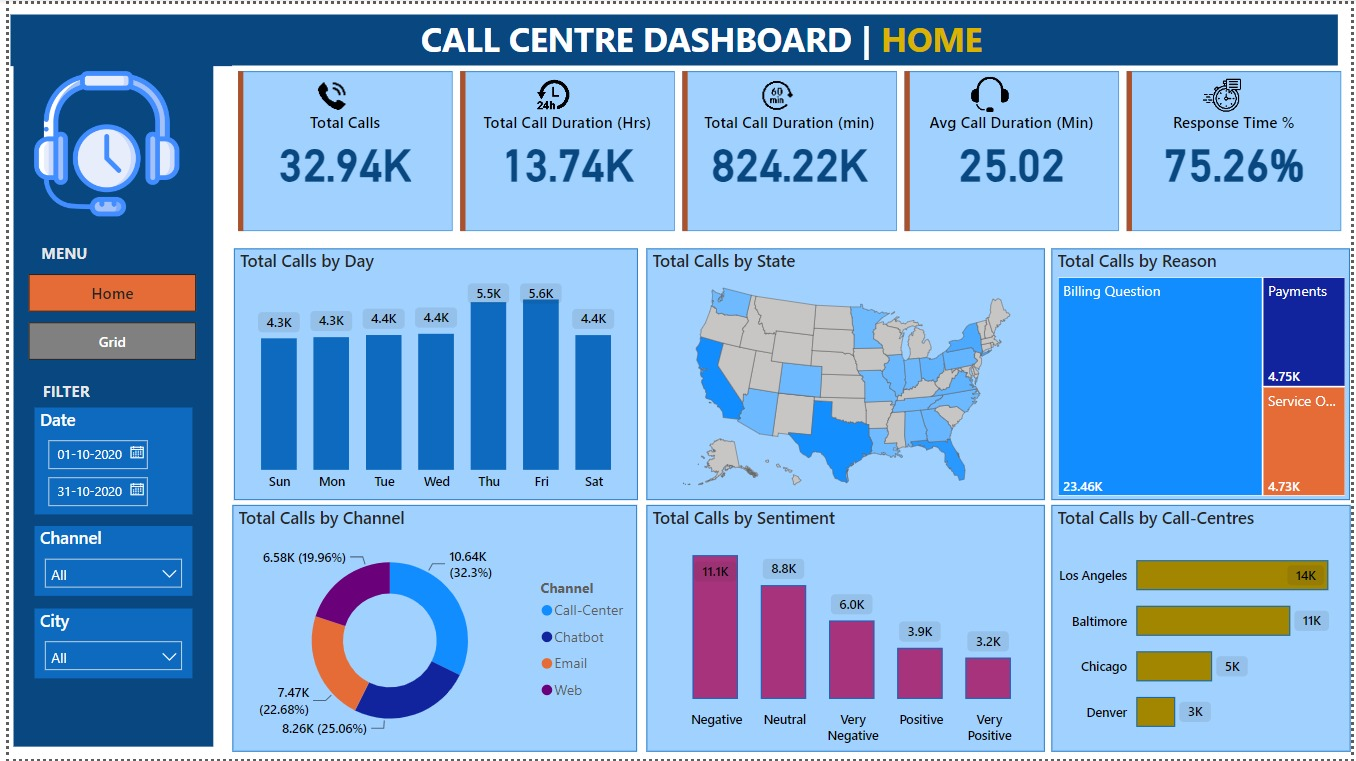

What the dashboard file says about the page in this screenshot:
{"tool":"powerbi","page":{"name":"Home","canvas":[1280,720],"ordinal":0},"visuals":[{"type":"shape","box":[2.1,9.8,1266.8,49.3],"z":0},{"type":"shape","box":[4.8,58.8,190.7,650.1],"z":1000},{"type":"cardVisual","fields":{"Data":["Call Center_Call Center.Total Calls","Call Center_Call Center.Total Call Duration (Hrs)","Call Center_Call Center.Total Call Duration (min)","Call Center_Call Center.Avg Call Duration (Min)","Call Center_Call Center.Response Time %"]},"box":[213.3,58.7,1066.4,163.2],"z":2000},{"type":"image","box":[286.1,73.1,42.9,30.2],"z":3000},{"type":"image","box":[486.4,65.2,65.2,41.3],"z":4000},{"type":"image","box":[704.1,66.8,58.8,39.7],"z":5000},{"type":"image","box":[906,63.6,60.4,46.1],"z":6000},{"type":"image","box":[1133.2,63.6,47.7,47.7],"z":7000},{"type":"textbox","box":[387.8,6.4,578.5,58.8],"z":8000},{"type":"columnChart","fields":{"Category":["Date Table.Day"],"Y":["Call Center_Call Center.Total Calls"]},"box":[214.6,233.6,385,240],"z":9000},{"type":"shapeMap","fields":{"Category":["Call Center_Call Center.State"],"Value":["Call Center_Call Center.Total Calls"]},"box":[608.7,233.6,379.9,240],"z":10000},{"type":"treemap","fields":{"Group":["Call Center_Call Center.Reason"],"Values":["Call Center_Call Center.Total Calls"]},"box":[995,233.6,284.5,240],"z":11000},{"type":"donutChart","fields":{"Category":["Call Center_Call Center.Channel"],"Y":["Call Center_Call Center.Total Calls"]},"box":[213,478.4,386.2,235.2],"z":12000},{"type":"columnChart","fields":{"Category":["Call Center_Call Center.Sentiment"],"Y":["Call Center_Call Center.Total Calls"]},"box":[609,478,380,235],"z":13000},{"type":"barChart","fields":{"Category":["Call Center_Call Center.Call-Centres City"],"Y":["Call Center_Call Center.Total Calls"]},"box":[995,478,285,235],"z":14000},{"type":"slicer","title":"Date","fields":{"Values":["Date Table.Date"]},"box":[23.8,384.6,151,101.7],"z":15000},{"type":"slicer","title":"Channel","fields":{"Values":["Call Center_Call Center.Channel"]},"box":[23.8,497.5,151,66.8],"z":16000},{"type":"slicer","title":"City","fields":{"Values":["Call Center_Call Center.City"]},"box":[23.8,577,151,66.8],"z":17000},{"type":"image","box":[18.6,58.7,148.9,148.9],"z":18000},{"type":"pageNavigator","box":[19.1,257.5,160.5,82.6],"z":19000},{"type":"textbox","box":[25.8,221.9,67.3,35.8],"z":20000},{"type":"textbox","box":[27,352.8,65.2,33.4],"z":21000}]}

Visuals, with their boxes in screenshot pixels (x1, y1, x2, y2), scaled from the page's 1280x720 canvas onto the 1356x761 screenshot:
shape: box(2, 10, 1344, 62)
shape: box(5, 62, 207, 749)
cardVisual - Call Center_Call Center.Total Calls x Call Center_Call Center.Total Call Duration (Hrs): box(226, 62, 1355, 235)
image: box(303, 77, 349, 109)
image: box(515, 69, 584, 113)
image: box(746, 71, 808, 113)
image: box(960, 67, 1024, 116)
image: box(1200, 67, 1251, 118)
textbox: box(411, 7, 1024, 69)
columnChart - Date Table.Day x Call Center_Call Center.Total Calls: box(227, 247, 635, 501)
shapeMap - Call Center_Call Center.State x Call Center_Call Center.Total Calls: box(645, 247, 1047, 501)
treemap - Call Center_Call Center.Reason x Call Center_Call Center.Total Calls: box(1054, 247, 1355, 501)
donutChart - Call Center_Call Center.Channel x Call Center_Call Center.Total Calls: box(226, 506, 635, 754)
columnChart - Call Center_Call Center.Sentiment x Call Center_Call Center.Total Calls: box(645, 505, 1048, 754)
barChart - Call Center_Call Center.Call-Centres City x Call Center_Call Center.Total Calls: box(1054, 505, 1355, 754)
"Date" slicer: box(25, 407, 185, 514)
"Channel" slicer: box(25, 526, 185, 596)
"City" slicer: box(25, 610, 185, 680)
image: box(20, 62, 177, 219)
pageNavigator: box(20, 272, 190, 359)
textbox: box(27, 235, 99, 272)
textbox: box(29, 373, 98, 408)
